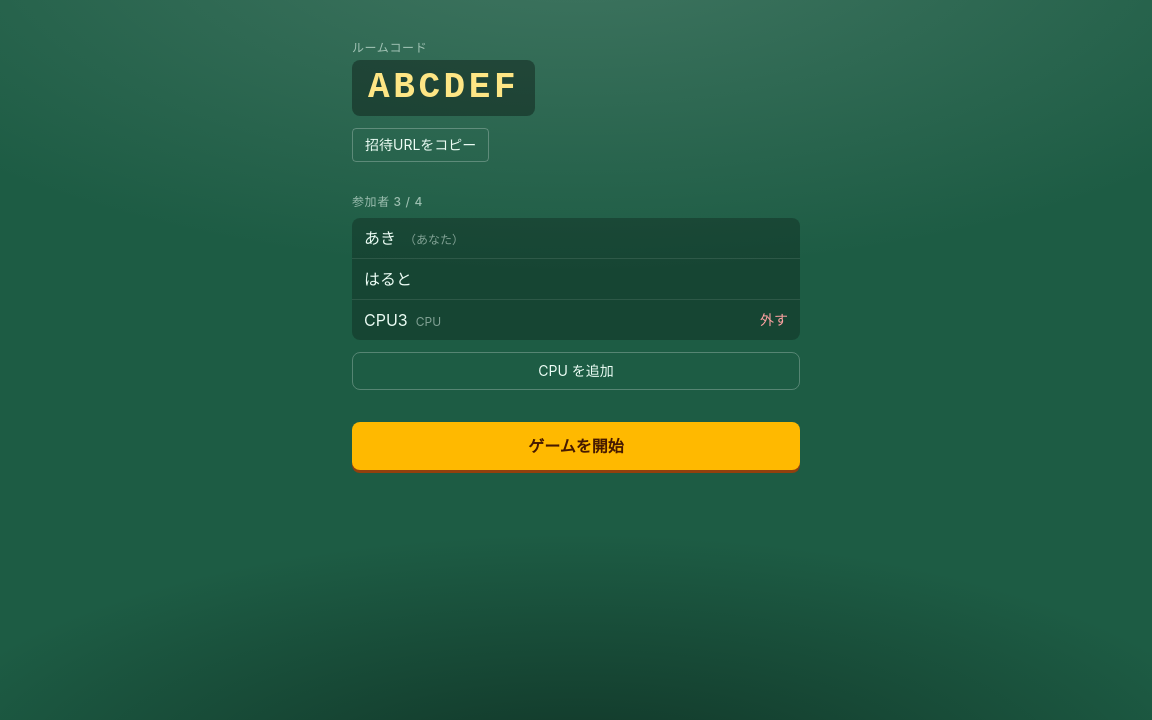
Test: ロビー画面 › 開始に失敗したら理由を表示する
What coordinates should you click on to do the following:
click the button "ゲームを開始"
I would click on:
 (576, 446)
Its box is left=352, top=422, right=800, bottom=470.
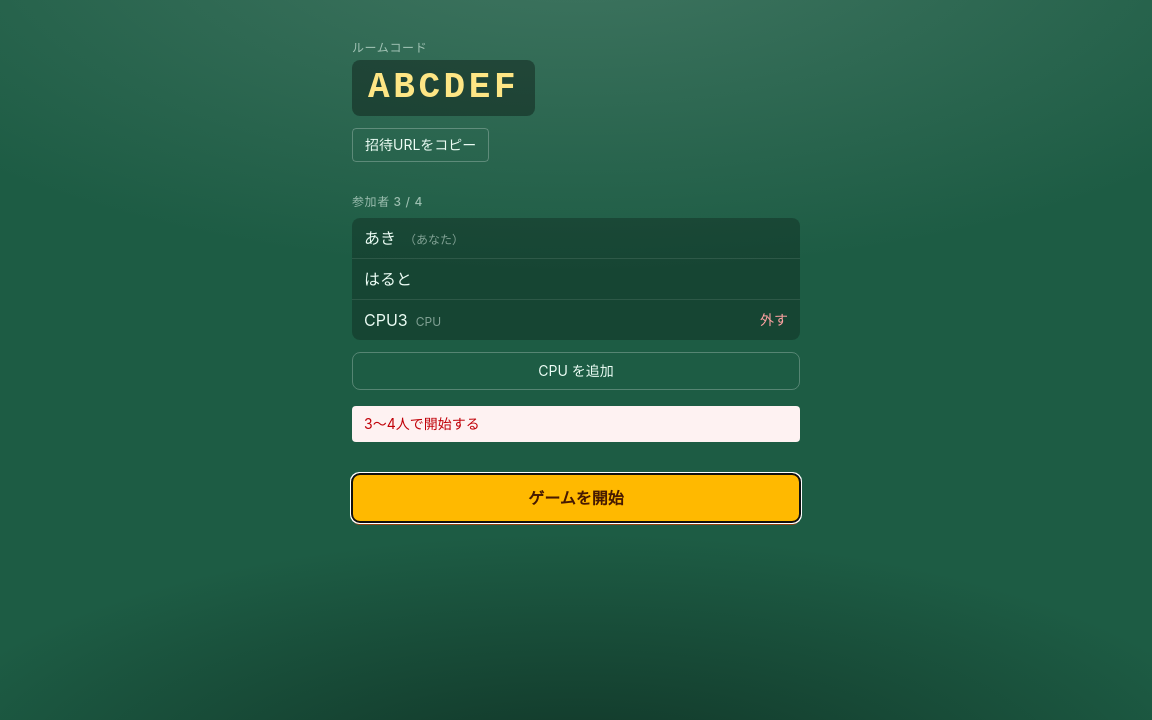
Expected: the text "3〜4人で開始する" is shown, left=352, top=406, right=800, bottom=442
